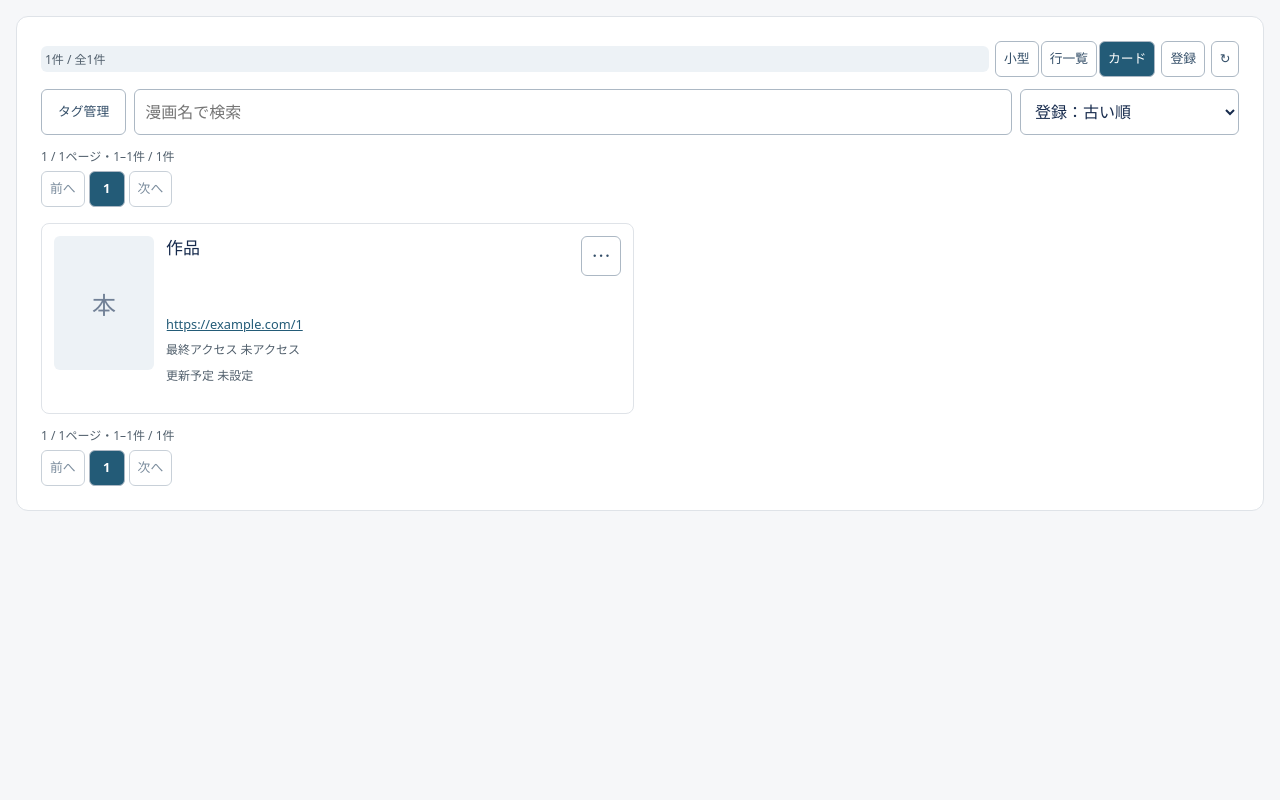
Test: 保存失敗は形式を戻さず、フォームの成功で警告を消さず、次の形式保存で回復する
The image size is (1280, 800).
expect the button with aria-label "小型表示" is enabled: met, box [995,41,1039,77]
expect the heading "作品" is shown: met, box [166,236,200,259]
Click the button "行一覧": point(1069, 59) [1041,41,1097,77]
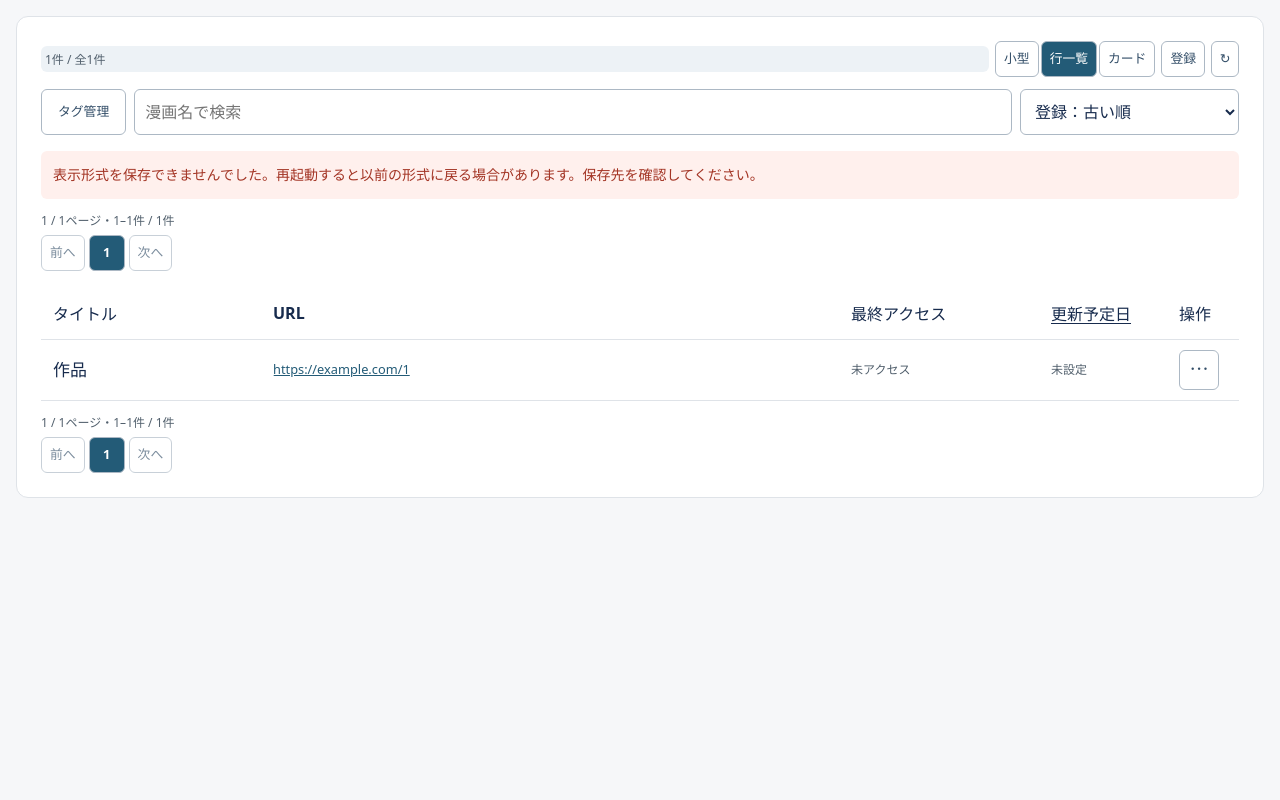
expect the message shows "表示形式を保存できません": met, box [53,165,764,184]
Click the button with aria-label "作品を登録": point(1183, 59) [1161,41,1205,77]
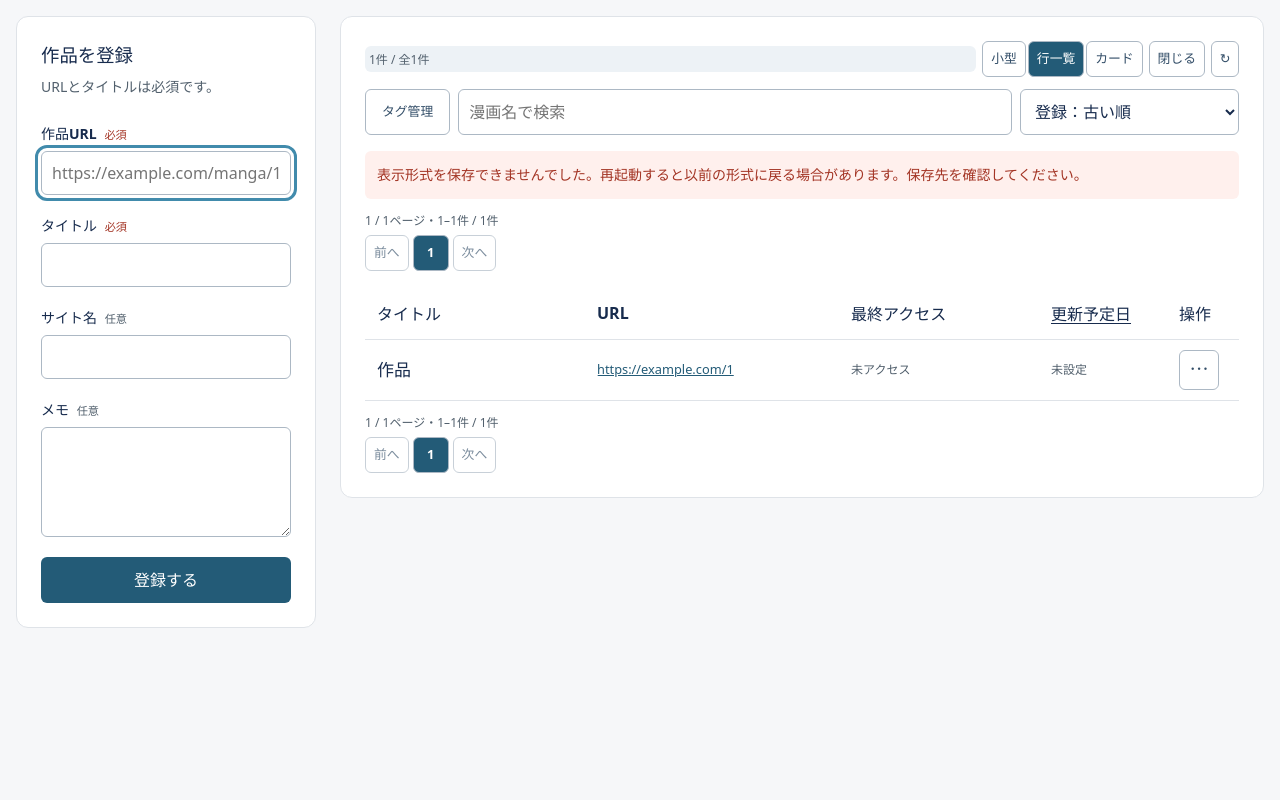
expect the message shows "表示形式を保存できません": met, box [377,165,1088,184]
Click the button with aria-label "小型表示": point(1004, 59) [982,41,1026,77]
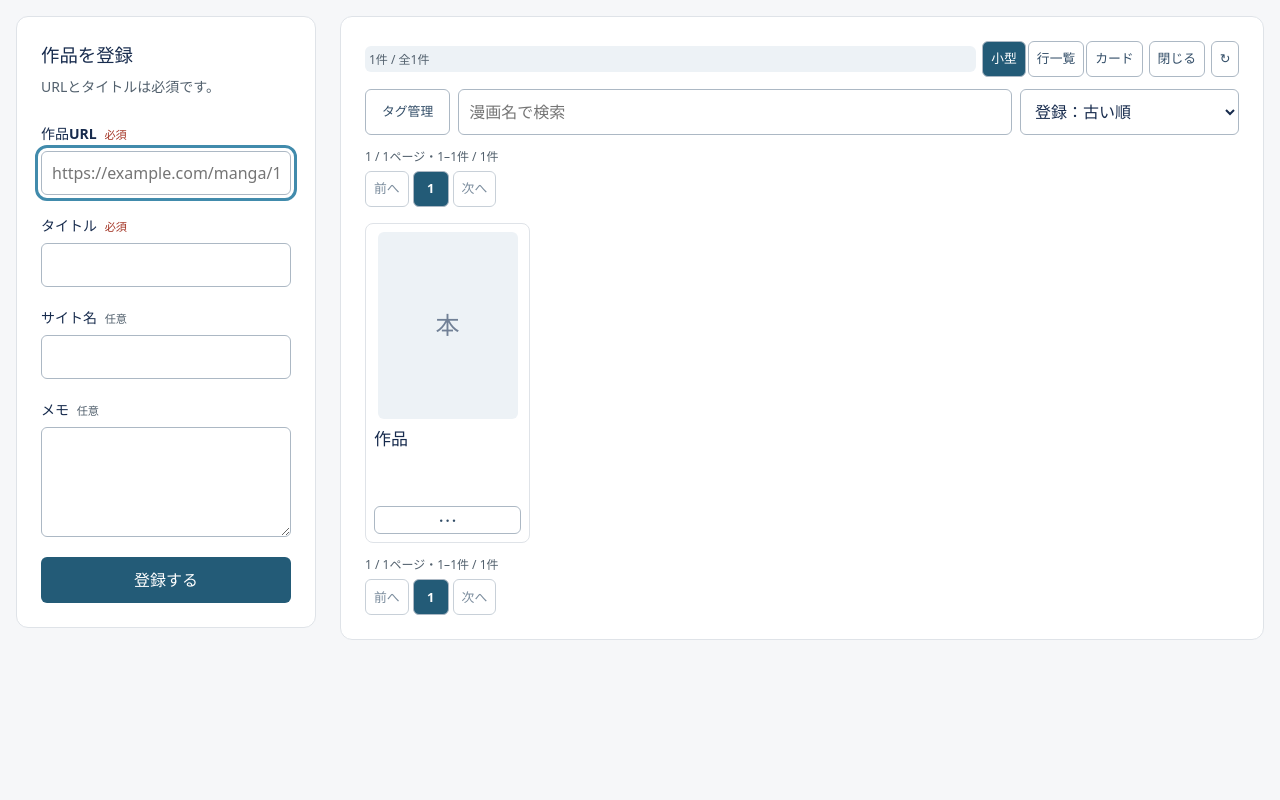
expect the message "表示形式を保存できませんでした。再起動すると以前の形式に戻る場合があります。保存先を確認してください。" is gone: met
